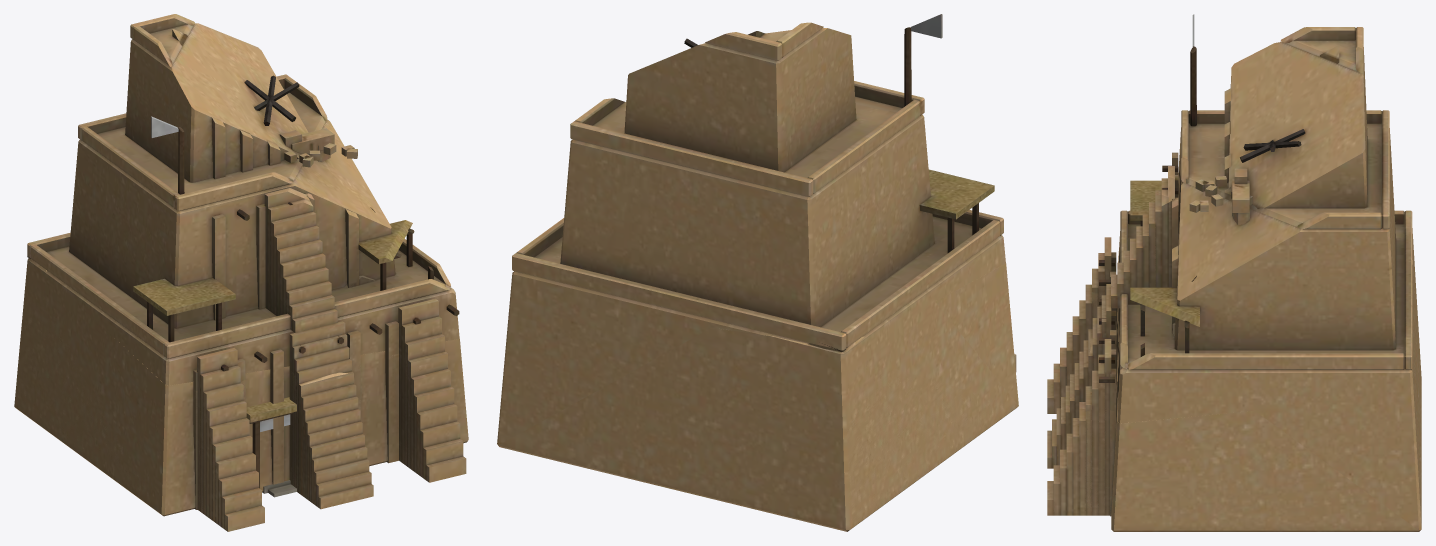
File: palace-damage-bronze-1bdb1776.glb
The picture shows the model from 3 angles, left to right: view 1: azimuth 30°, elevation 25°; view 2: azimuth 150°, elevation 25°; view 3: azimuth 270°, elevation 25°; orthographic projection. The views are drawn at different scales.
Visible parts, largest first — view 1: LOD0, LOD0.001, LOD0.002; view 2: LOD0, LOD0.001; view 3: LOD0, LOD0.001.
Boxes of the visible parts, x1,y1,x2,y2 form: LOD0: [14, 14, 467, 531]; LOD0.001: [15, 256, 468, 514]; LOD0.002: [246, 397, 296, 497]; LOD0: [497, 14, 1018, 531]; LOD0.001: [498, 263, 1018, 530]; LOD0: [1047, 14, 1421, 531]; LOD0.001: [1085, 228, 1421, 530].
Size of what is drawn, in the model's own units: 1.16 by 1.38 by 1.18.
Materials: 2 (2 with a texture image).
